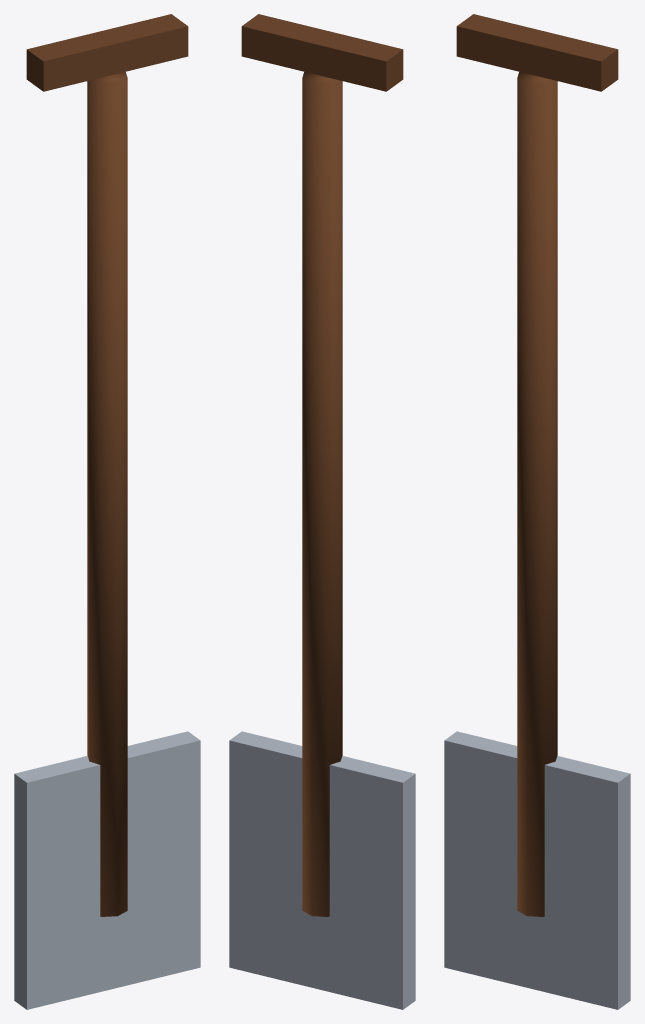
The model's file is shovel.glb.
3 renders of one model, left to right at view 1: azimuth 30°, elevation 25°; view 2: azimuth 150°, elevation 25°; view 3: azimuth 330°, elevation 25°, orthographic.
Parts seen in each view (by area): view 1: shovel; view 2: shovel; view 3: shovel.
Boxes of the visible parts, <box> form: shovel: <box>14,14,200,1009</box>; shovel: <box>229,14,415,1009</box>; shovel: <box>444,14,630,1009</box>.
Size of the model in its own units: 0.24 by 1.25 by 0.05.
